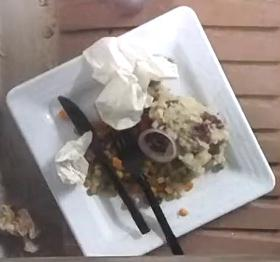mashed_potato: (148, 82, 228, 176)
peas: (55, 131, 117, 197), (144, 158, 195, 201), (107, 149, 147, 203)
